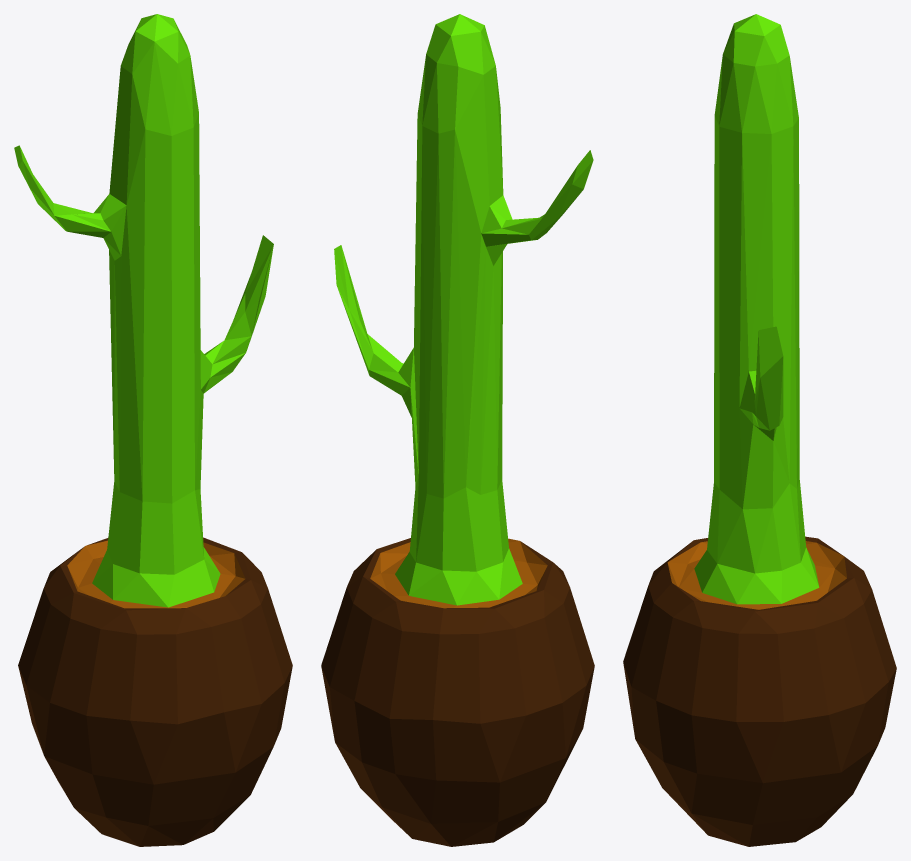
The model's file is Kaptus 1.fbx.
3 views of the same model, side by side, from view 1: azimuth 30°, elevation 25°; view 2: azimuth 150°, elevation 25°; view 3: azimuth 270°, elevation 25° (orthographic).
Visible parts, largest first — view 1: Cone; view 2: Cone; view 3: Cone.
Part boxes in pixels (<box>): Cone: <box>14,14,292,846</box>; Cone: <box>321,14,594,846</box>; Cone: <box>623,14,896,846</box>.
Bounding box in the file's own units: 223 × 699 × 210.
